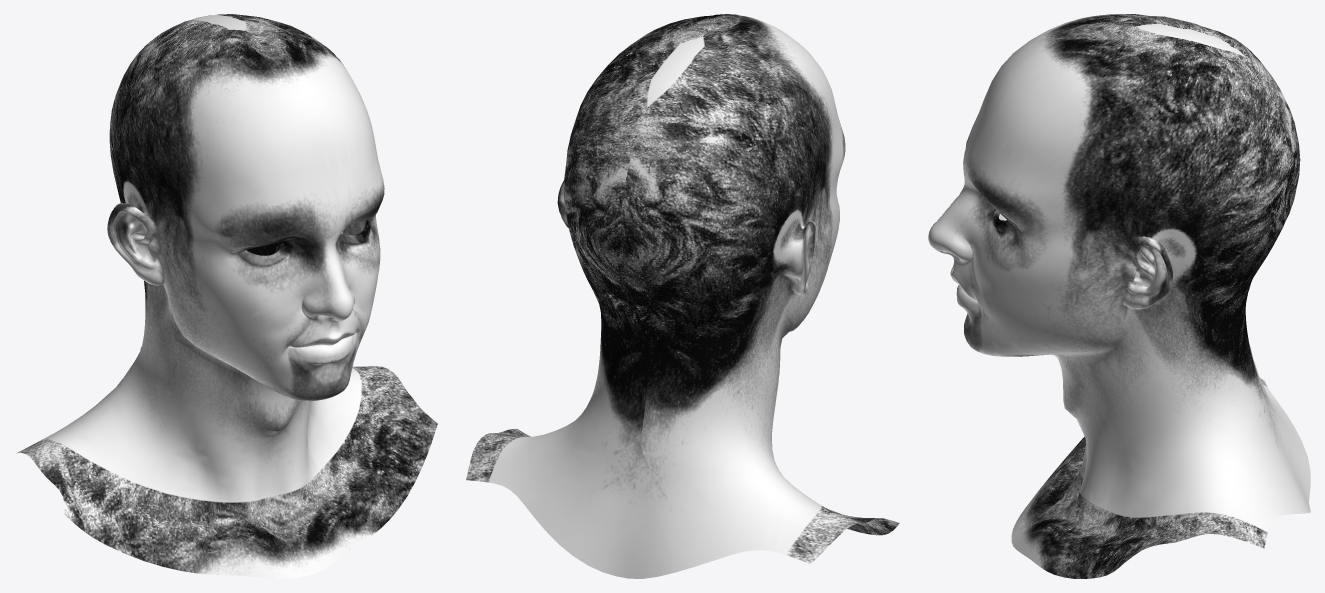
File: Bust.glb
3 views of the same model, side by side, from view 1: azimuth 30°, elevation 25°; view 2: azimuth 150°, elevation 25°; view 3: azimuth 270°, elevation 25° (orthographic). The views are drawn at different scales.
Visible parts, largest first — view 1: Face; view 2: Face; view 3: Face.
Boxes of the visible parts, x1,y1,x2,y2 form: Face: (16, 14, 437, 578); Face: (466, 14, 899, 578); Face: (928, 14, 1310, 578).
Bounding box in the file's own units: 2.59 × 3.32 × 2.25.
Materials: 1 (1 with a texture image).
